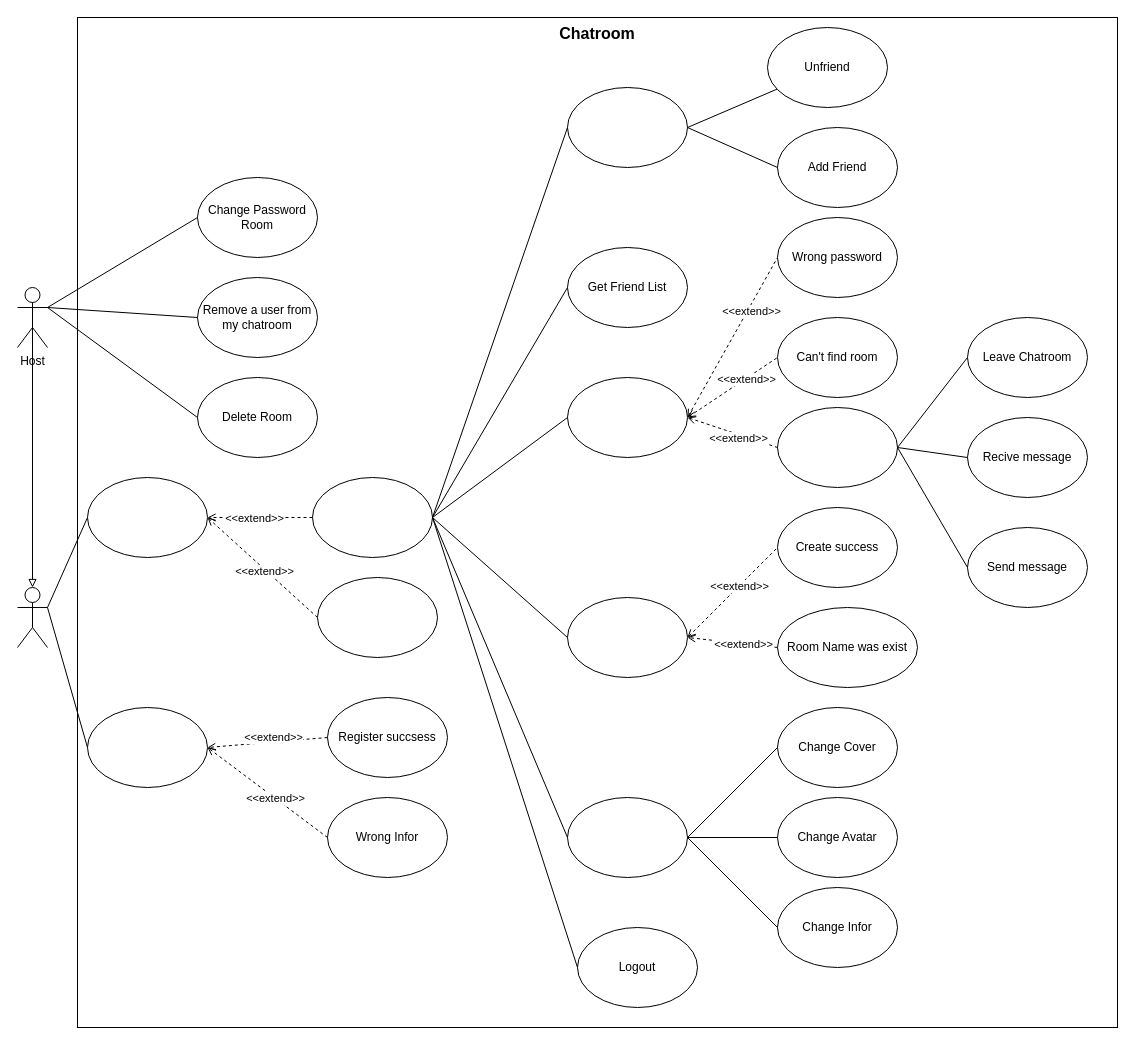
Image size: 1135x1045. Some labels were removed from this diagram. The shapes that lost their labels are listed below. From the top down, each one's centre as x and y in pixels, then its label:
(627,127): Get another Profile
(627,417): Join Room
(837,447): Join success
(147,517): Login
(372,517): Login success
(32,617): User
(377,617): Wrong username or Password
(627,637): Create Room
(147,747): Register
(627,837): Get my Profile
